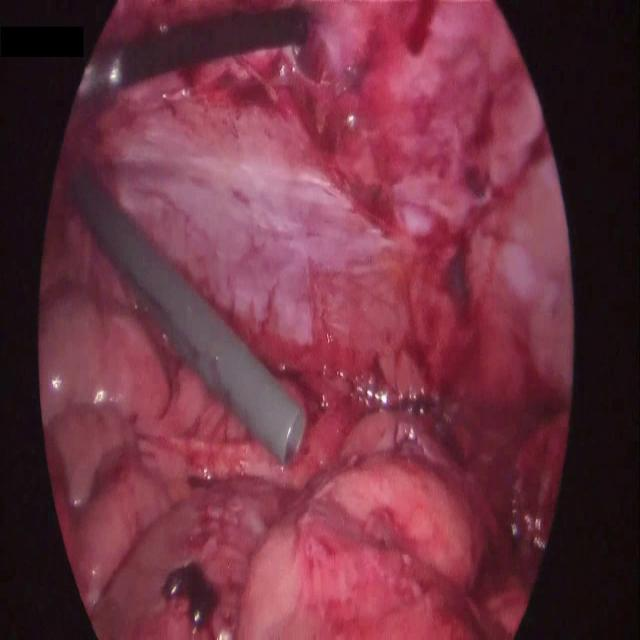surgical-area: (38, 0, 577, 639)
